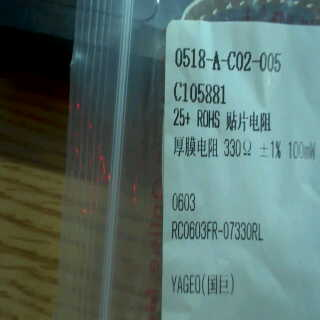330R: (223, 136, 255, 159)
